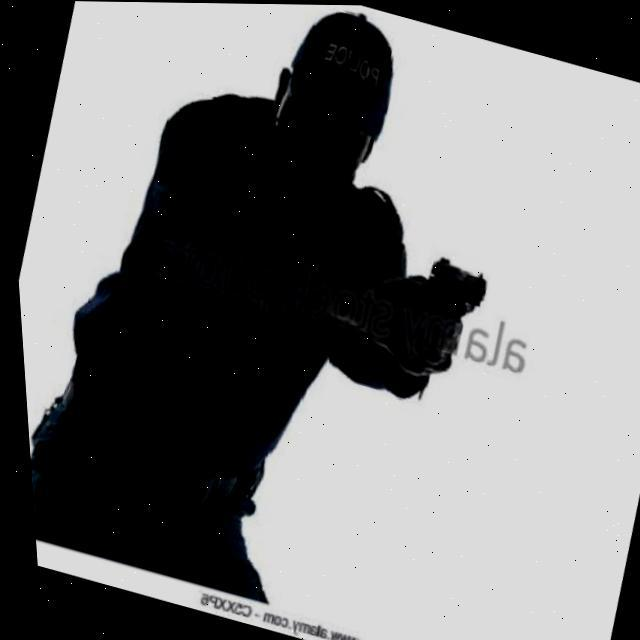gun: (404, 244, 496, 350)
